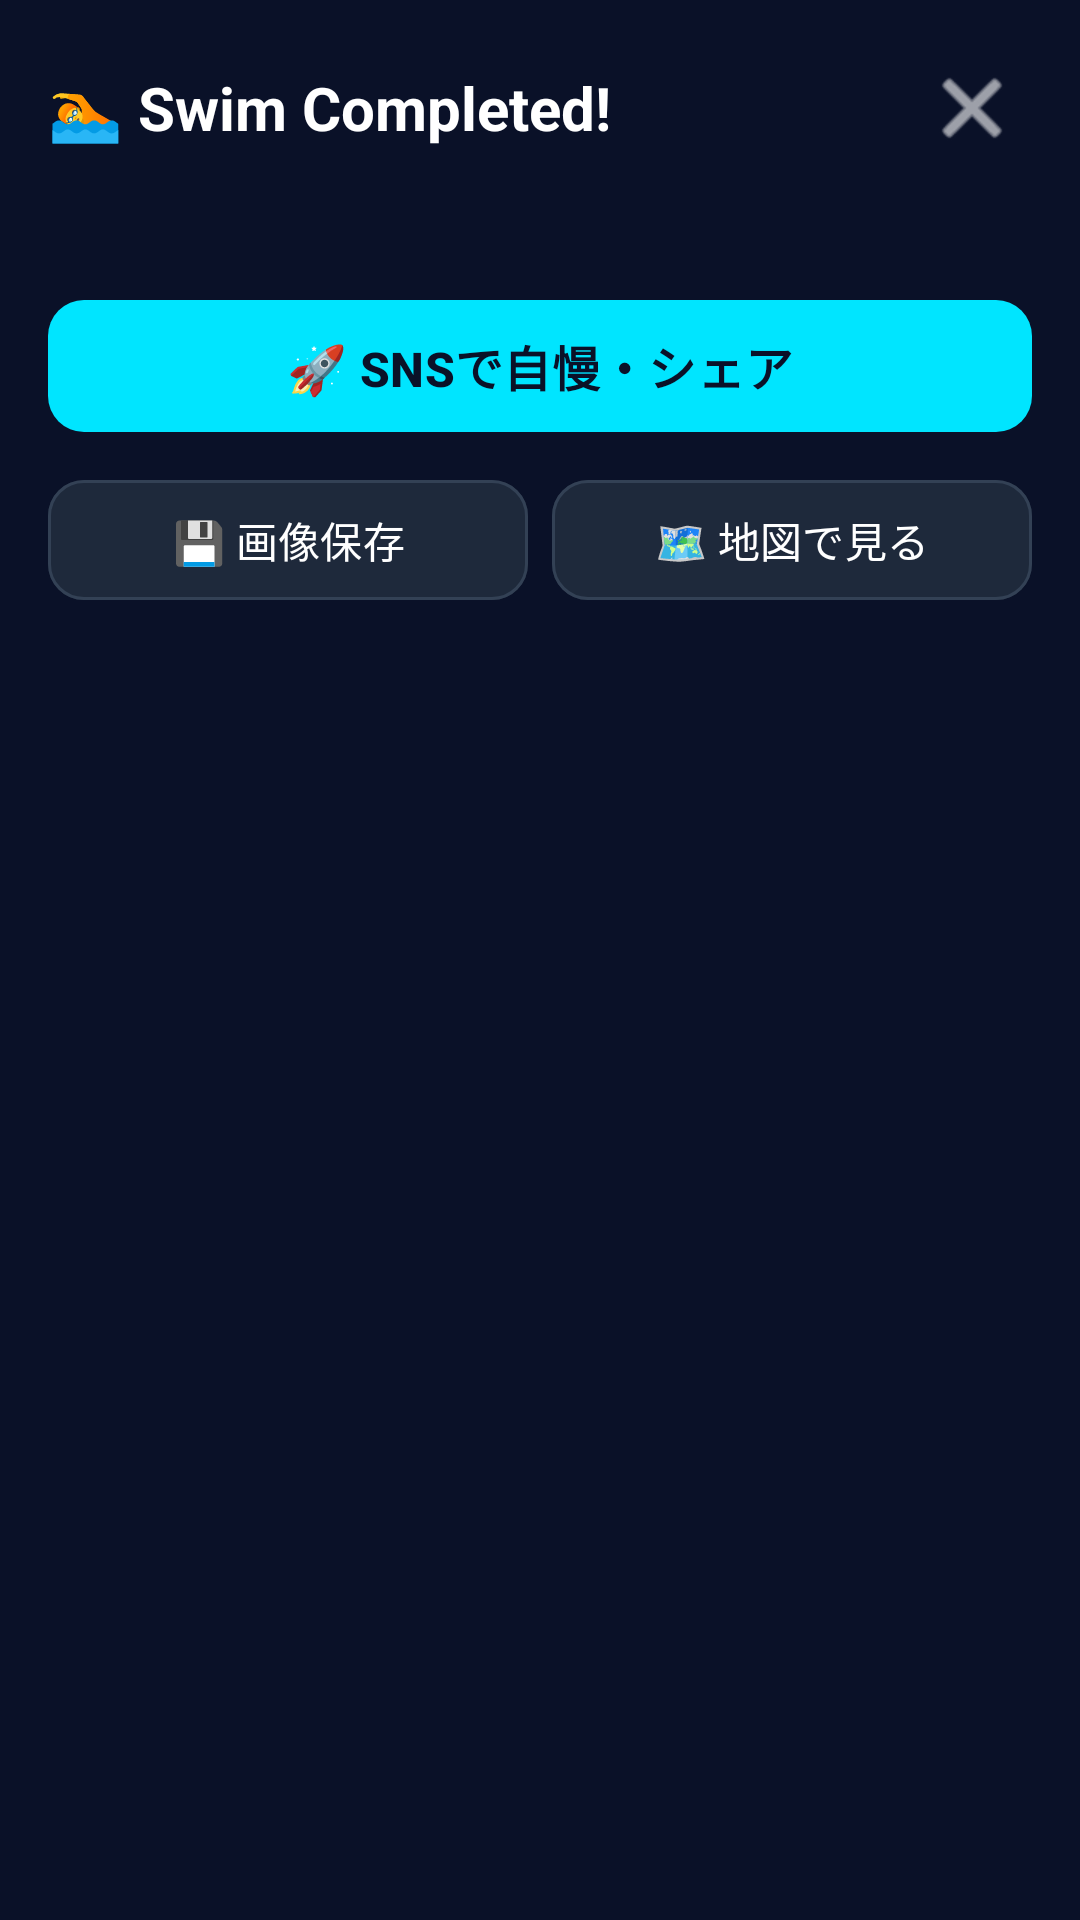

Where to tap for icons on this 1080w x 1920h app screen, as [x,y]:
Close: [972,108]
